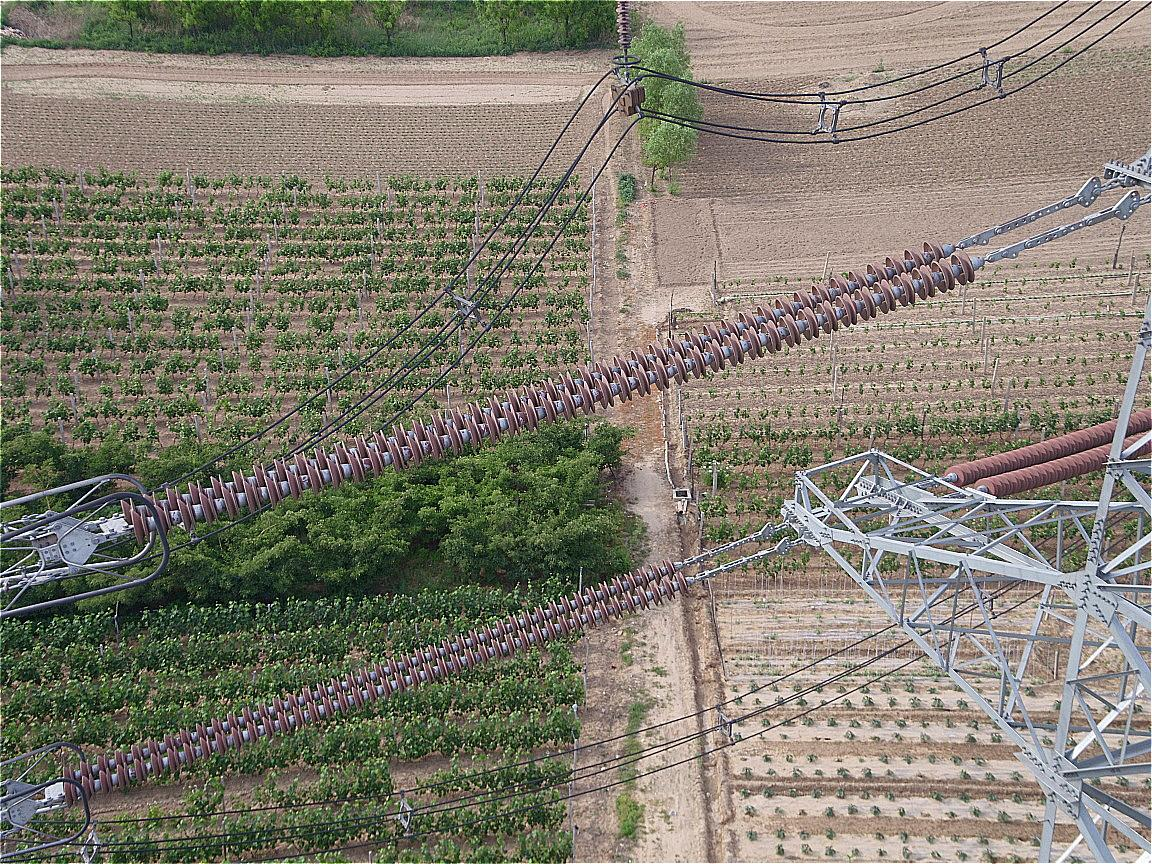insultor2: (119, 238, 977, 548), (60, 558, 691, 807)
